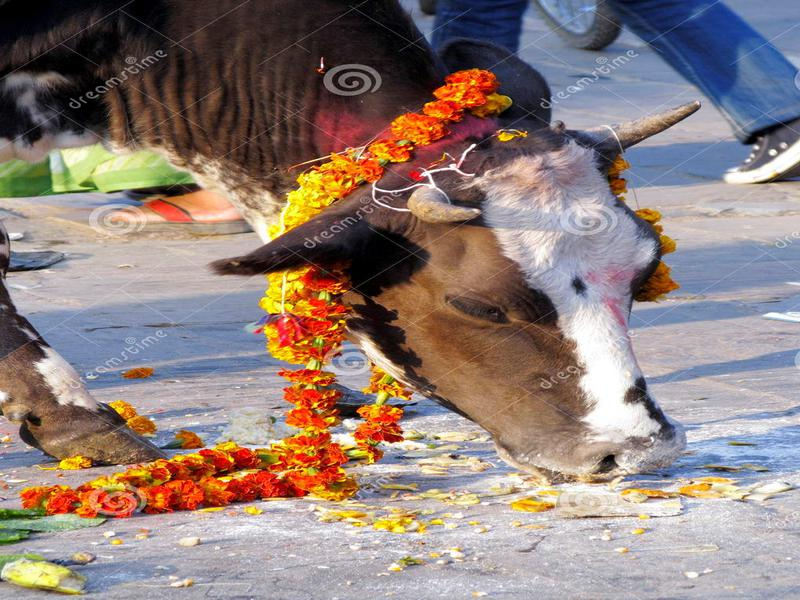flowers: (7, 442, 374, 543), (107, 362, 209, 452), (320, 503, 455, 541)
